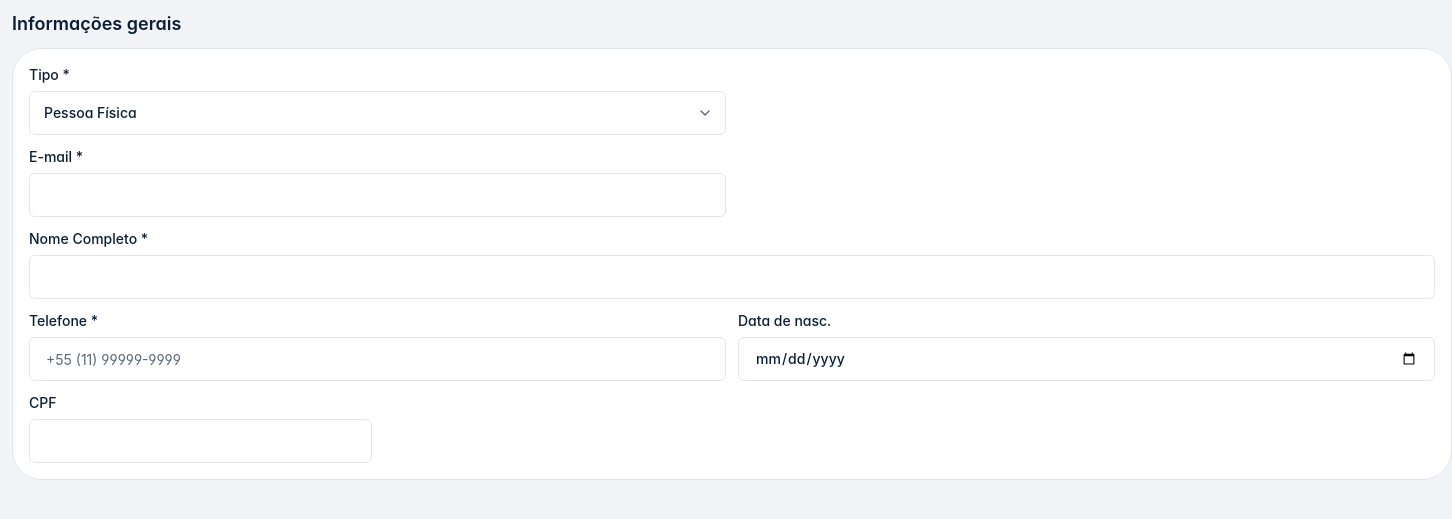
Test: aviso de identidade no preenchimento › consulta no blur sem esperar o intervalo e não repete a mesma consulta
Type "pessoa@example.invalid" into the field labelled "E-mail" at (378, 195), box [29,173,726,217]
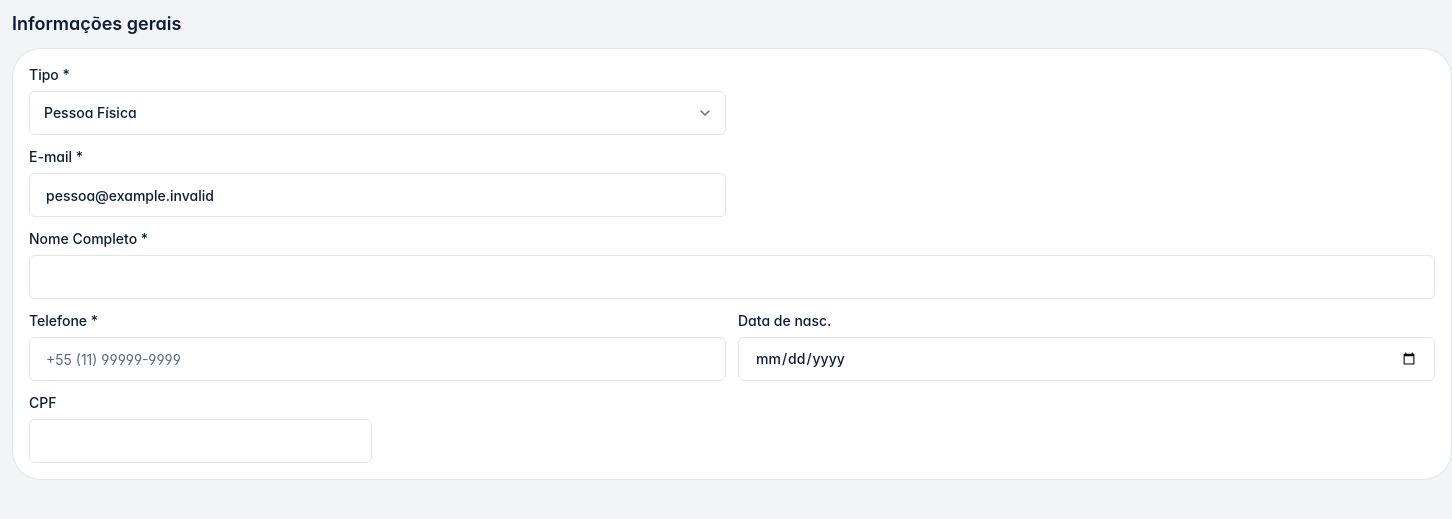
Leave the field labelled "E-mail", box [29,173,726,217]
Wait 350 ms
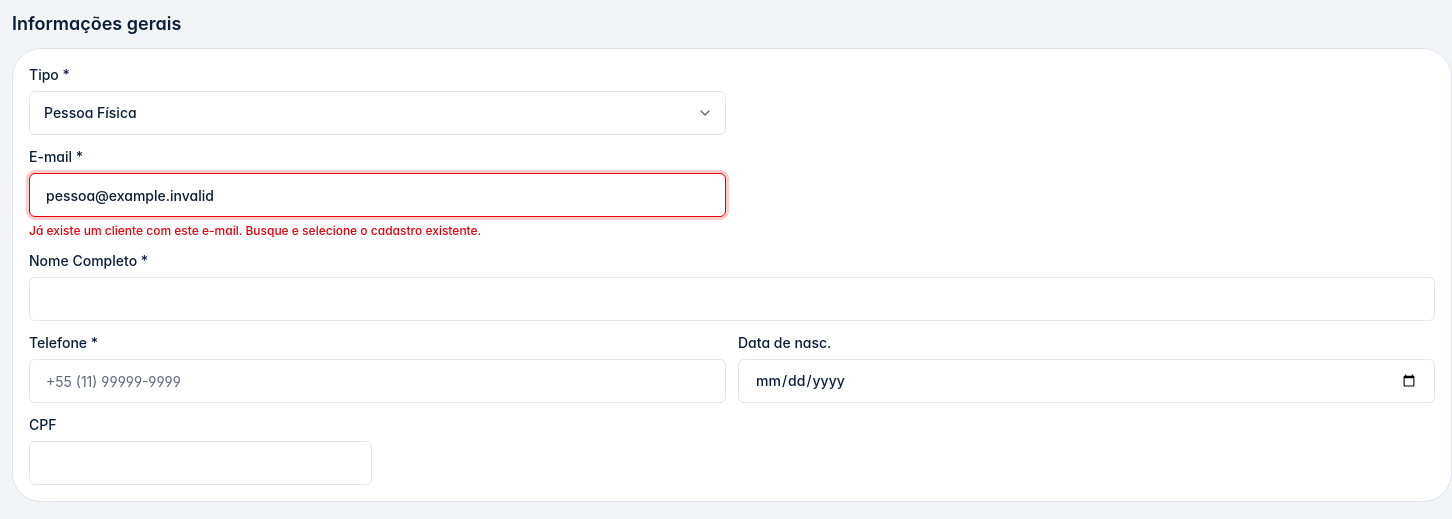
Expected: the message shows "e-mail", [29,223,481,238]
